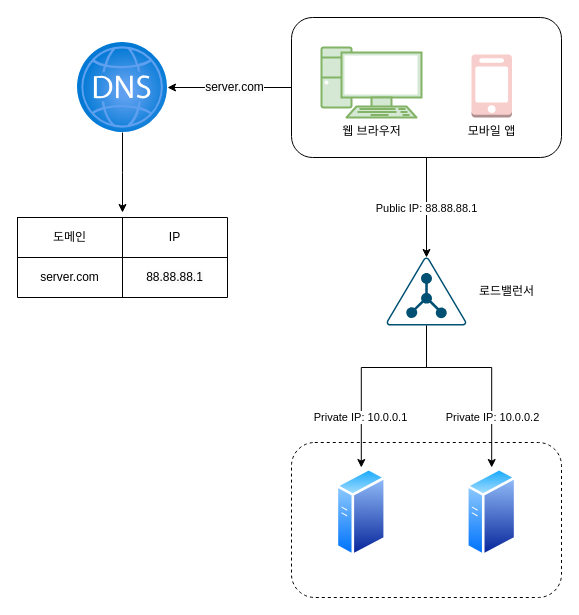
This 579x615 diagram has some shape labels left out. The box of each missing label's shape, as (x1, y1, x2, y2) in pixels:
서버 1: (336, 467, 386, 557)
서버 2: (466, 467, 516, 557)
